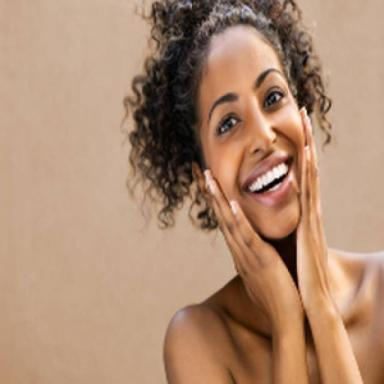normal skin: (165, 116, 384, 384), (197, 26, 305, 239)
